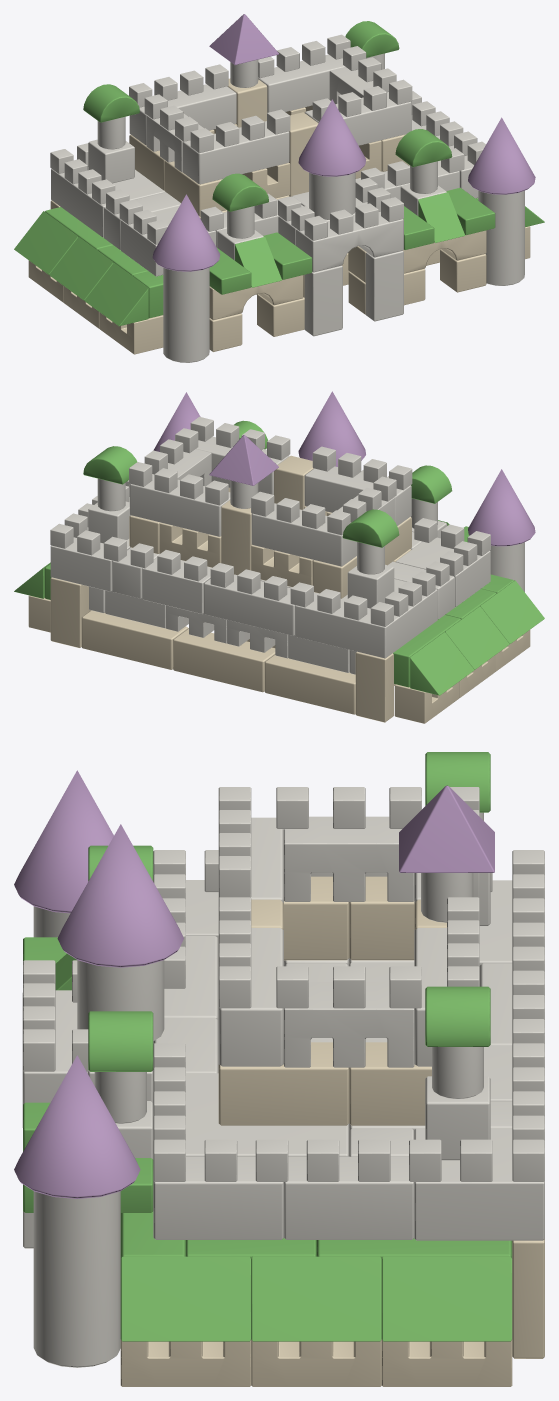
File: catsle kani.fbx
3 renders of one model, top to bottom at view 1: azimuth 30°, elevation 25°; view 2: azimuth 150°, elevation 25°; view 3: azimuth 270°, elevation 25°, orthographic. The views are drawn at different scales.
Parts seen in each view (by area): view 1: pCylinder5, pCube159, pCylinder6, pCube13, pCone5, pCone3, pCone4, pCube169, pCube34, pCube289, pCube170, pCube119 (+73 smaller); view 2: pCube289, pCube285, pCube230, pCube226, pCube170, pCube278, pCube169, pCone3, pCube159, pCube243, pCube245, pCone5 (+81 smaller); view 3: pCylinder6, pCube35, pCube270, pCube268, pCone5, pCone4, pCube271, pCube272, pCube273, pCube167, pCube163, pCube166 (+87 smaller).
Boxes of the visible parts, x1,y1,x2,y2 form: pCylinder5: [163, 267, 209, 362]; pCube159: [182, 121, 289, 184]; pCylinder6: [478, 190, 524, 285]; pCube13: [296, 211, 403, 272]; pCone5: [298, 99, 366, 176]; pCone3: [152, 194, 220, 271]; pCone4: [468, 117, 535, 194]; pCube169: [258, 54, 345, 112]; pCube34: [84, 262, 148, 326]; pCube289: [51, 167, 165, 237]; pCube170: [129, 84, 236, 145]; pCube119: [365, 251, 403, 321]; pCube289: [295, 579, 437, 658]; pCube285: [173, 628, 275, 692]; pCube230: [81, 610, 188, 669]; pCube226: [264, 654, 355, 714]; pCube170: [251, 503, 356, 566]; pCube278: [203, 574, 295, 635]; pCube169: [129, 474, 230, 536]; pCone3: [468, 469, 535, 546]; pCube159: [304, 466, 411, 525]; pCube243: [410, 632, 474, 695]; pCube245: [355, 651, 393, 722]; pCone5: [298, 391, 365, 466]; pCylinder6: [33, 1191, 120, 1367]; pCube35: [120, 1256, 251, 1341]; pCube270: [382, 1256, 512, 1341]; pCube268: [251, 1256, 381, 1341]; pCone5: [57, 824, 183, 967]; pCone4: [14, 1055, 140, 1198]; pCube271: [414, 1128, 544, 1240]; pCube272: [284, 1156, 414, 1239]; pCube273: [153, 1156, 283, 1239]; pCube167: [218, 1042, 349, 1125]; pCube163: [284, 816, 414, 901]; pCube166: [284, 982, 414, 1067].
Bounding box in the file's own units: 419 × 214 × 244.
